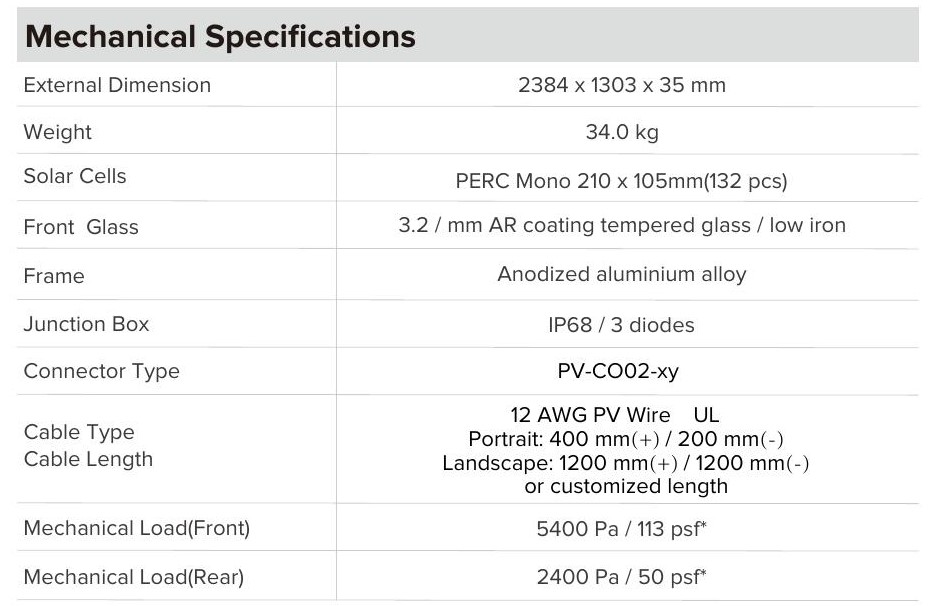table: (2, 57, 932, 606)
table column: (348, 61, 916, 604), (19, 61, 331, 603)
table row: (4, 400, 930, 500), (5, 253, 929, 298), (5, 350, 930, 393), (5, 304, 928, 346), (7, 556, 930, 598), (6, 506, 930, 547), (5, 204, 927, 245), (8, 112, 926, 153), (8, 160, 927, 198), (10, 66, 923, 103)
